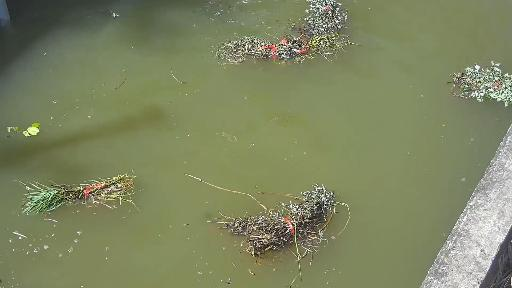leaf: (2, 123, 43, 139)
twig: (184, 172, 344, 284), (2, 169, 165, 223), (191, 33, 376, 67), (452, 62, 512, 111), (278, 0, 346, 32)
